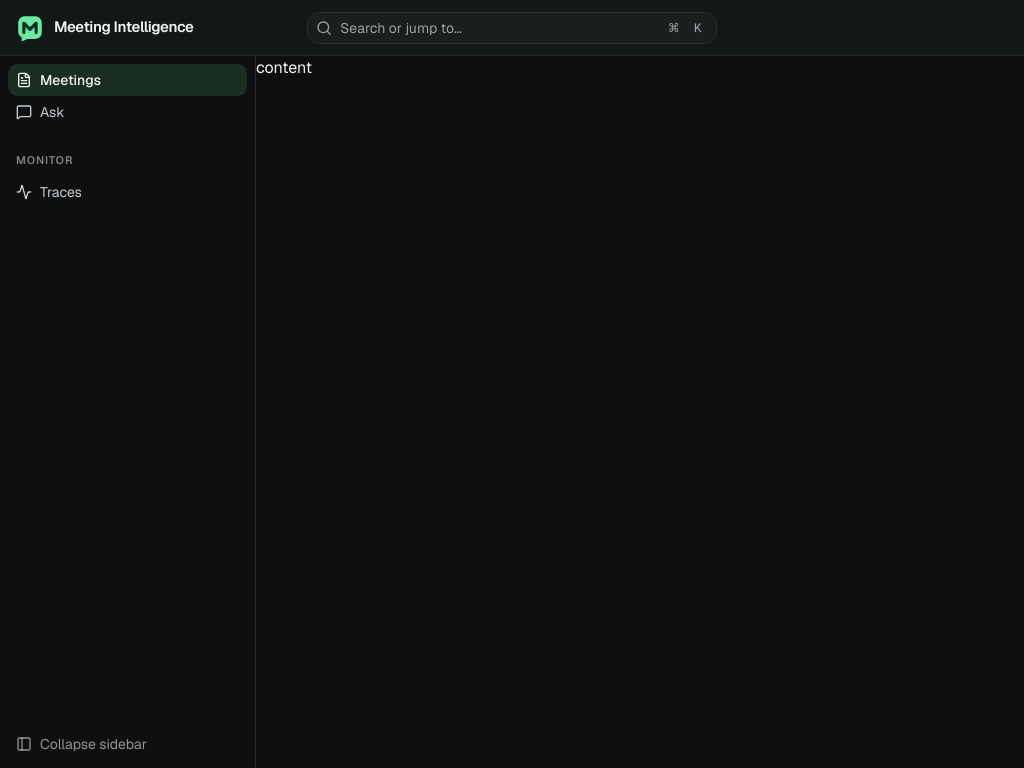
AppShell › says so when the meetings cannot be loaded
The width and height of the screenshot is (1024, 768).
Click the button "Search or jump to… ⌘ K".
click(401, 28)  # box left=307, top=12, right=717, bottom=44
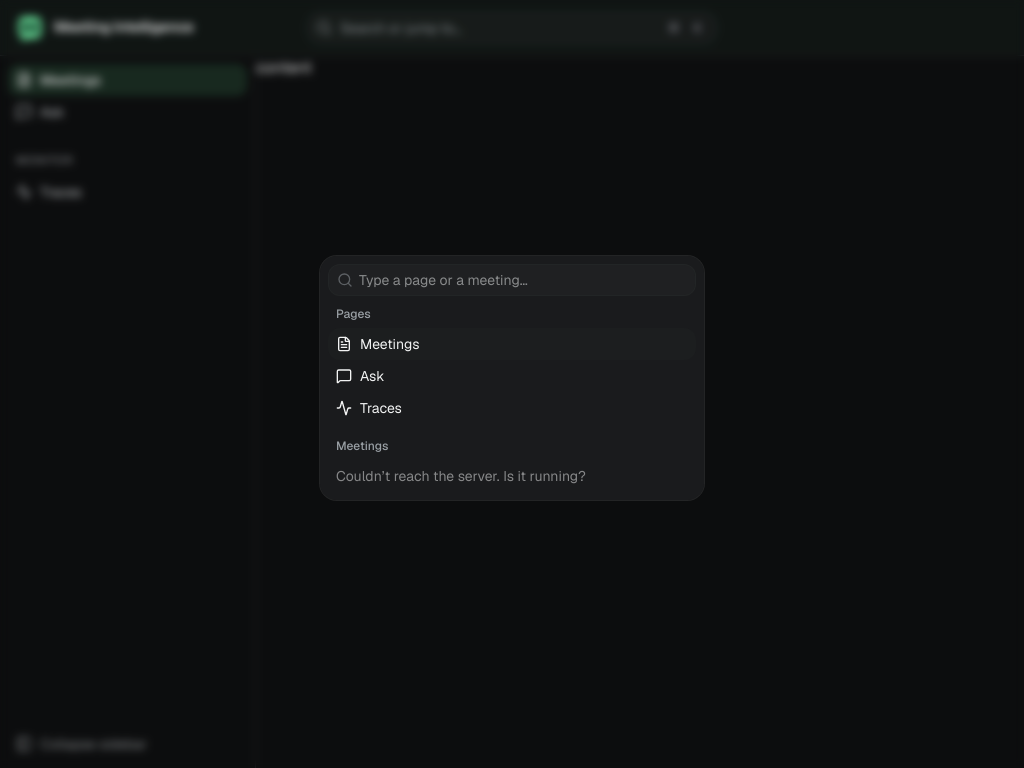
expect the option "Couldn’t reach the server. Is it running?" is shown: met, box left=336, top=467, right=586, bottom=485
